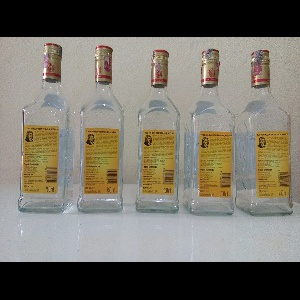emptybottle: (235, 49, 291, 217), (18, 43, 73, 213), (183, 49, 237, 215), (76, 45, 125, 213), (135, 49, 181, 213)
